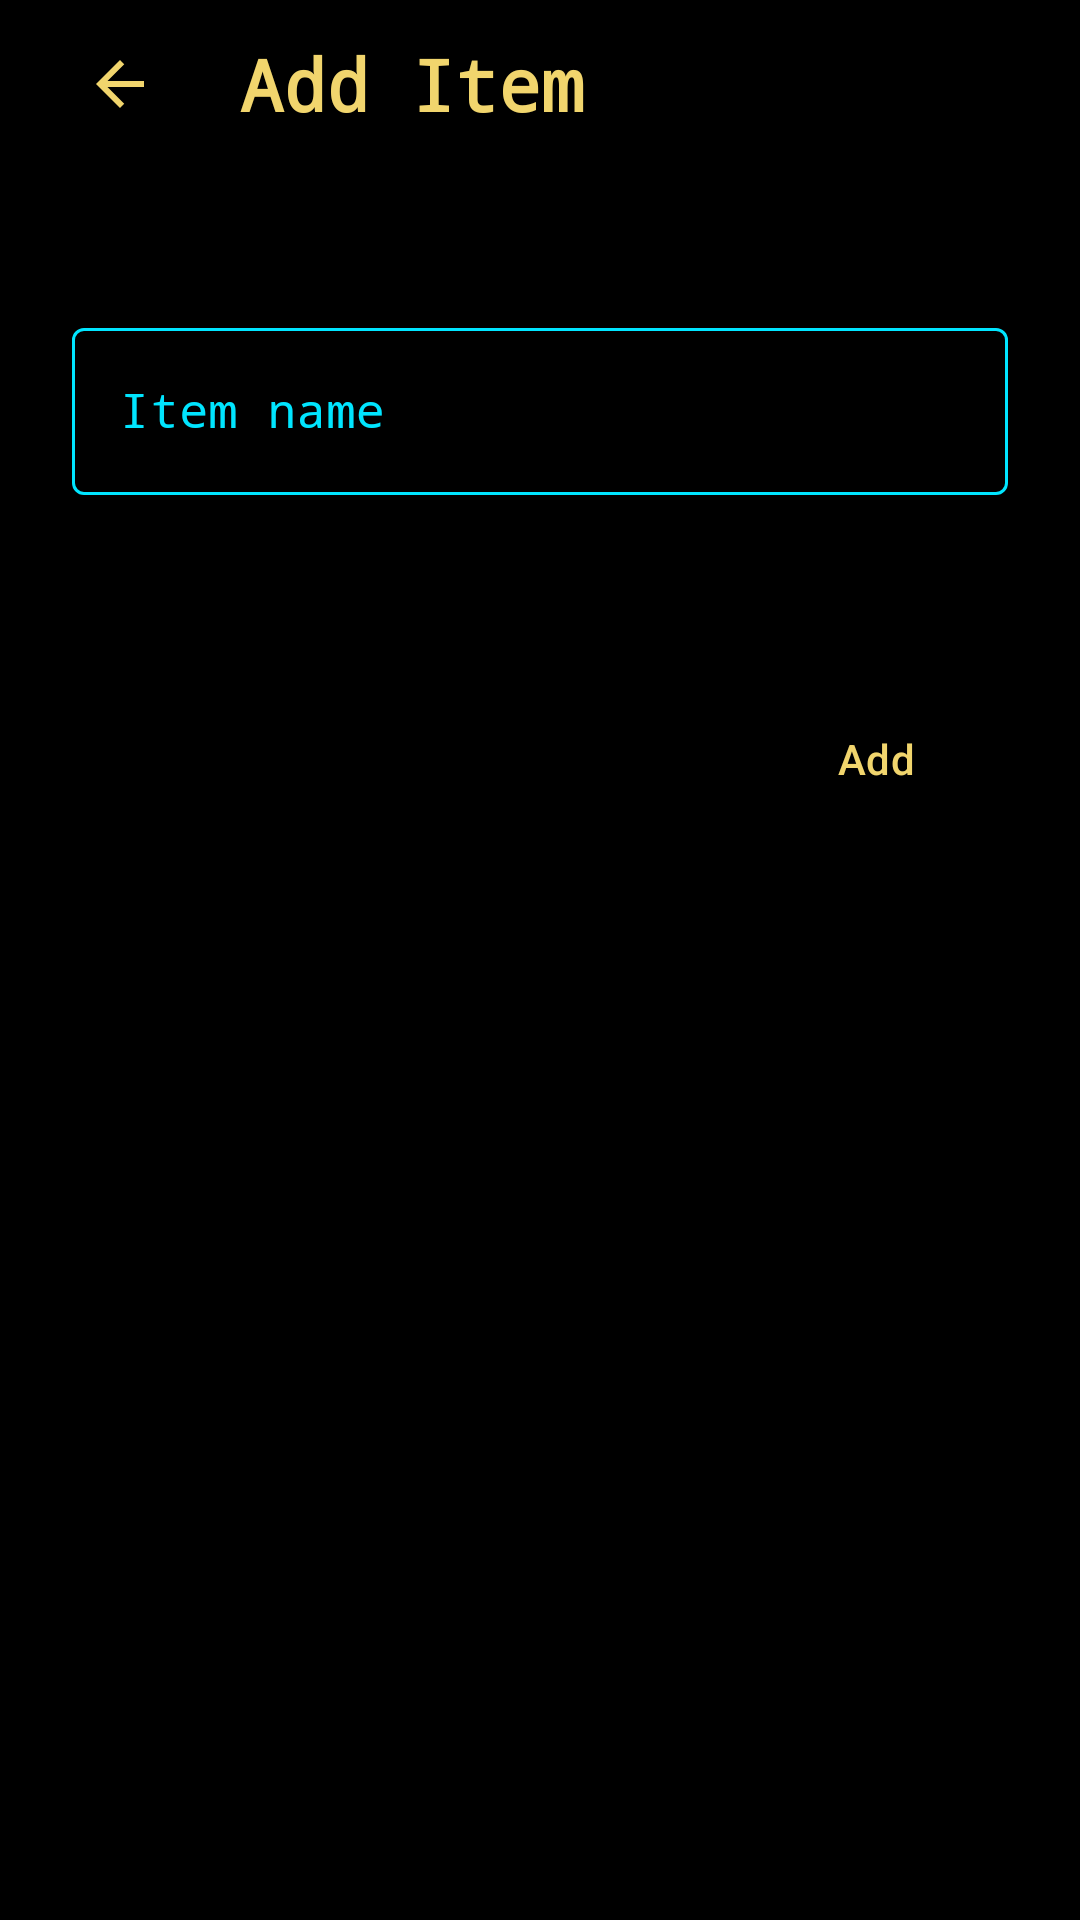

Icon click points for this 1080w x 1920h phone screenshot, format (x=x, y=y):
Back: (x=120, y=84)
